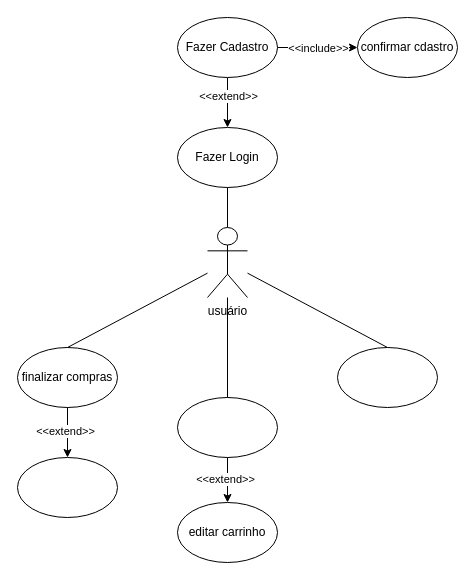
Image size: 475x580. Some labels were removed from this diagram. Each missing label, with the centre of its shape:
"avaliar serviços" belongs at point (67, 487).
"carrinho" belongs at point (227, 427).
"reembolso e/ou devoluções" belongs at point (387, 377).
